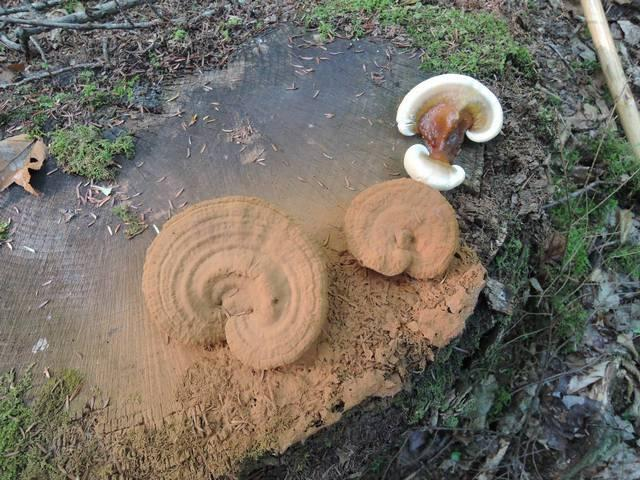poisonous_mushroom: (394, 71, 504, 191)
